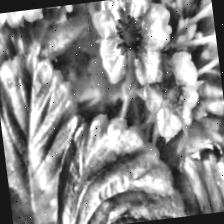Blossom Blight: (107, 11, 151, 62)
